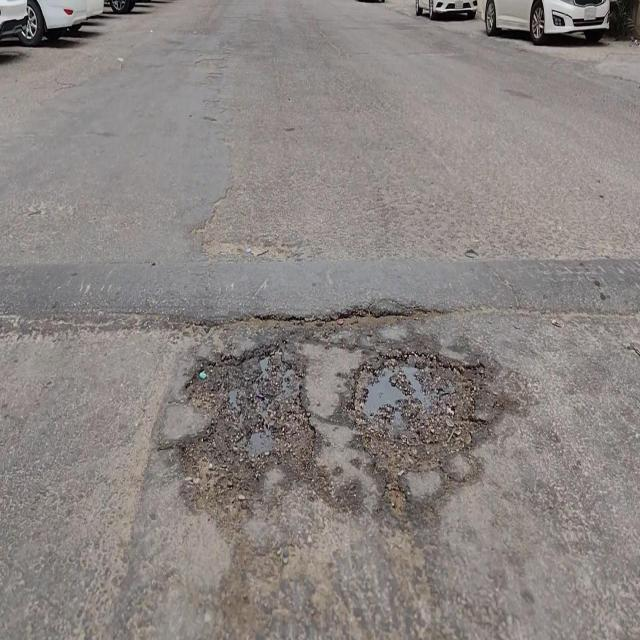Pothole: (178, 334, 321, 479), (351, 343, 490, 483)
